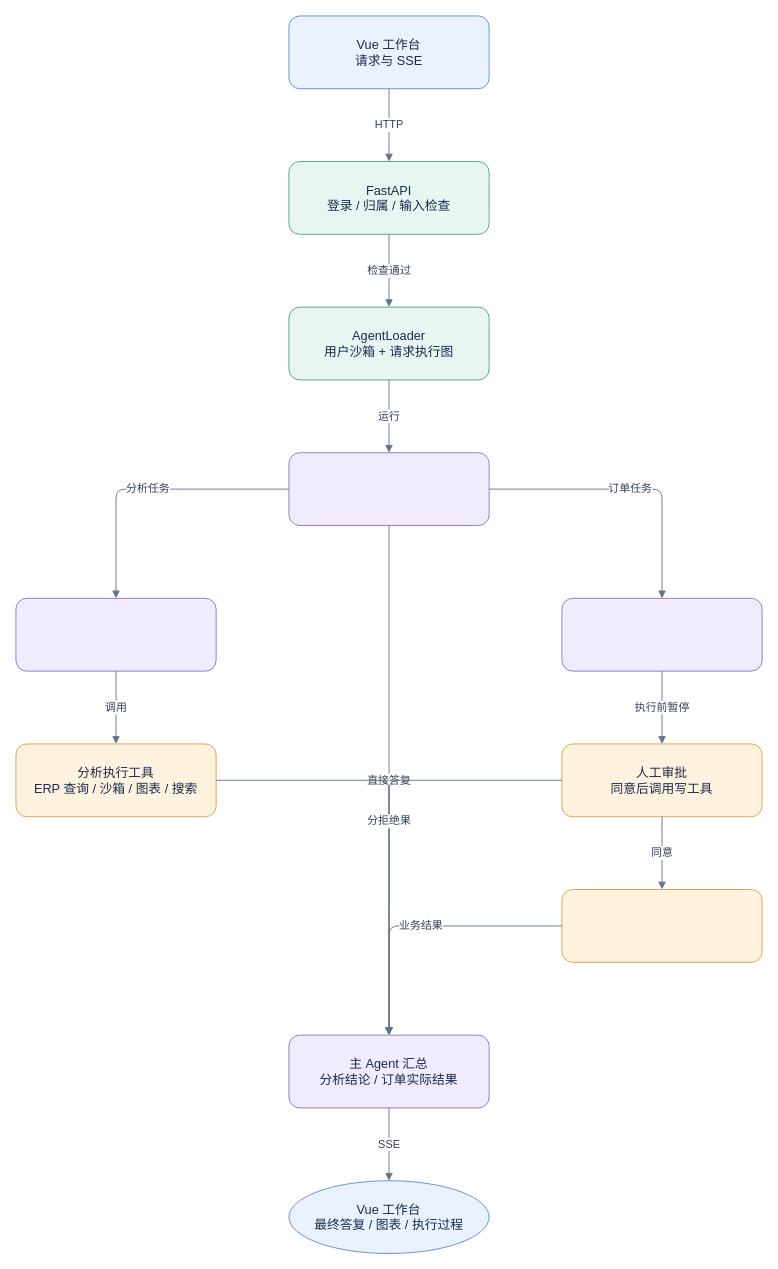
Image size: 778x1269. Some labels were removed from this diagram. The shapes that lost their labels are listed below. From the top down, each one's box as (x1, y1, x2, y2) in pixels, then its label:
(288, 452, 489, 526): 主 Agent 识别需求与任务委派
(15, 597, 216, 671): 采购分析子 Agent 收集证据 / 计算 / 报告
(561, 597, 762, 671): 采购订单子 Agent 准备订单参数
(561, 889, 762, 962): ERP MCP Java 订单创建 / 更新
